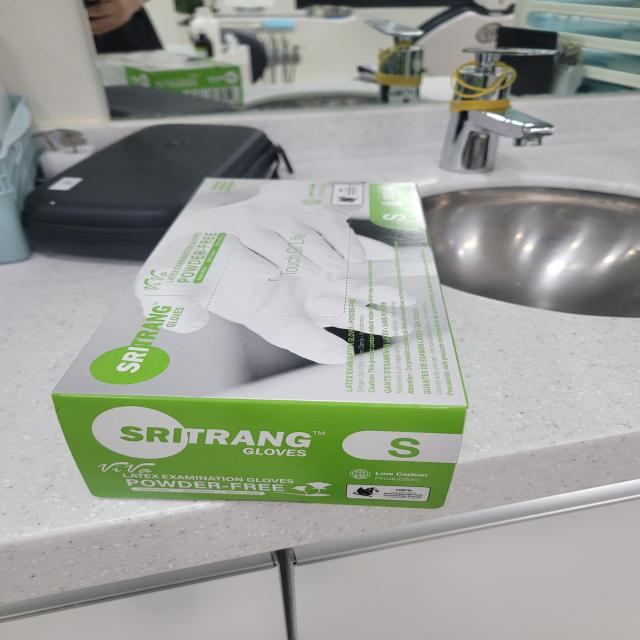glove: (50, 161, 494, 528)
